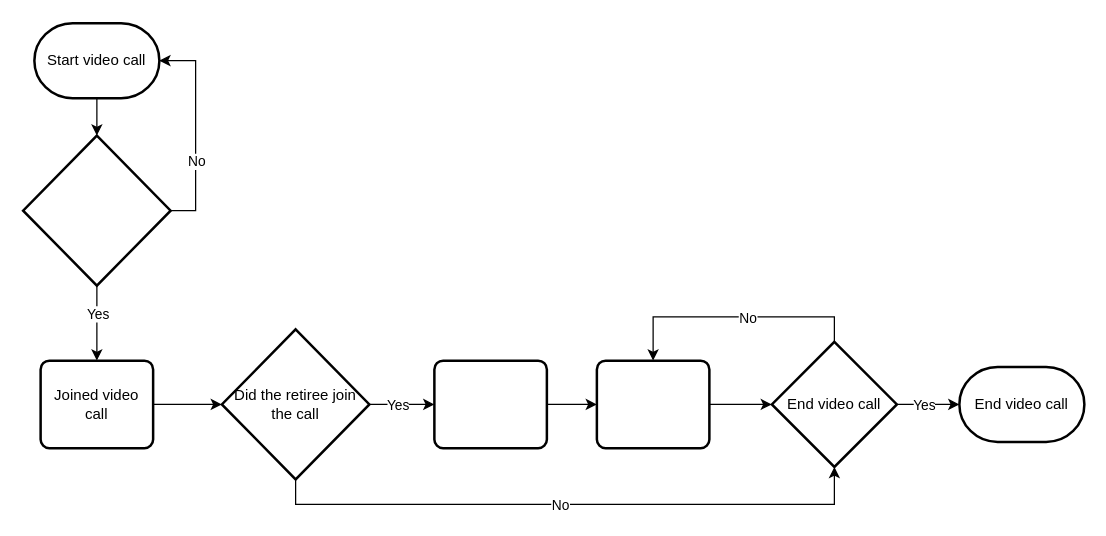
The diagram is 1106 pixels wide and 536 high, and some of its shapes have lost their labels. Each missing label, with the box of its shape:
Admit the retiree: (432, 359, 548, 449)
Are you sure you want to make the video call: (21, 134, 171, 286)
In video call: (595, 359, 710, 449)
